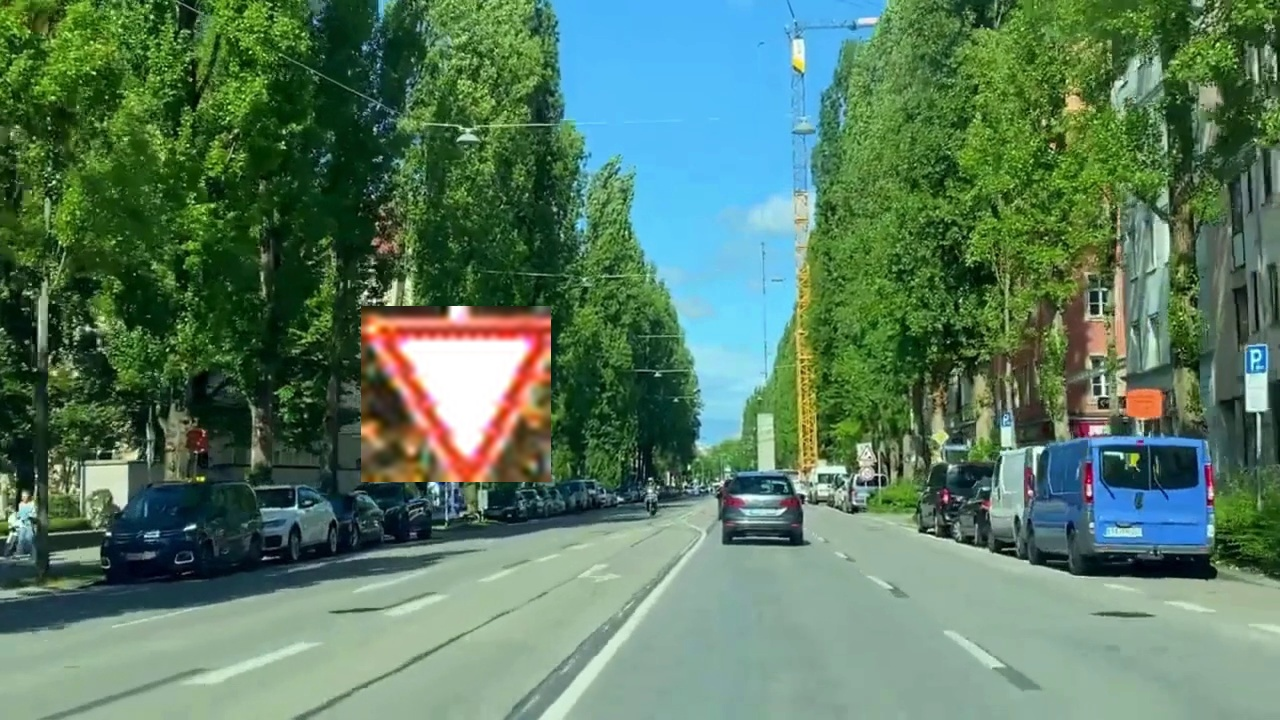Yield: (361, 306, 551, 482)
